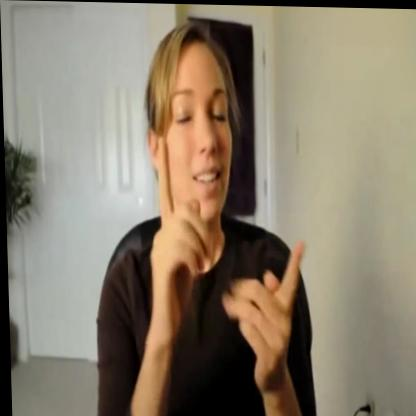NiceToMeetYou: (126, 131, 323, 390)
